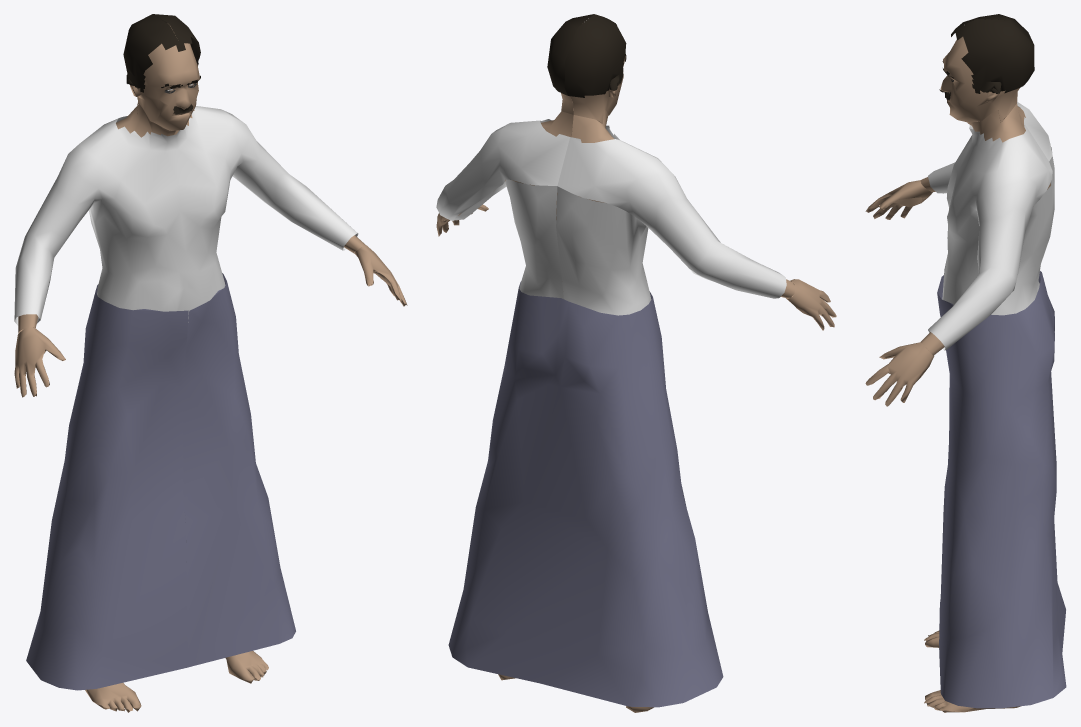
The model's file is man_07.glb.
3 renders of one model, left to right at view 1: azimuth 30°, elevation 25°; view 2: azimuth 150°, elevation 25°; view 3: azimuth 270°, elevation 25°, orthographic.
Parts seen in each view (by area): view 1: crowd; view 2: crowd; view 3: crowd.
Part boxes in pixels (bbox=[...]): crowd: bbox=[14, 14, 407, 712]; crowd: bbox=[436, 14, 836, 712]; crowd: bbox=[865, 14, 1066, 712].
Size of the model in its own units: 1.08 by 1.76 by 0.4879.
